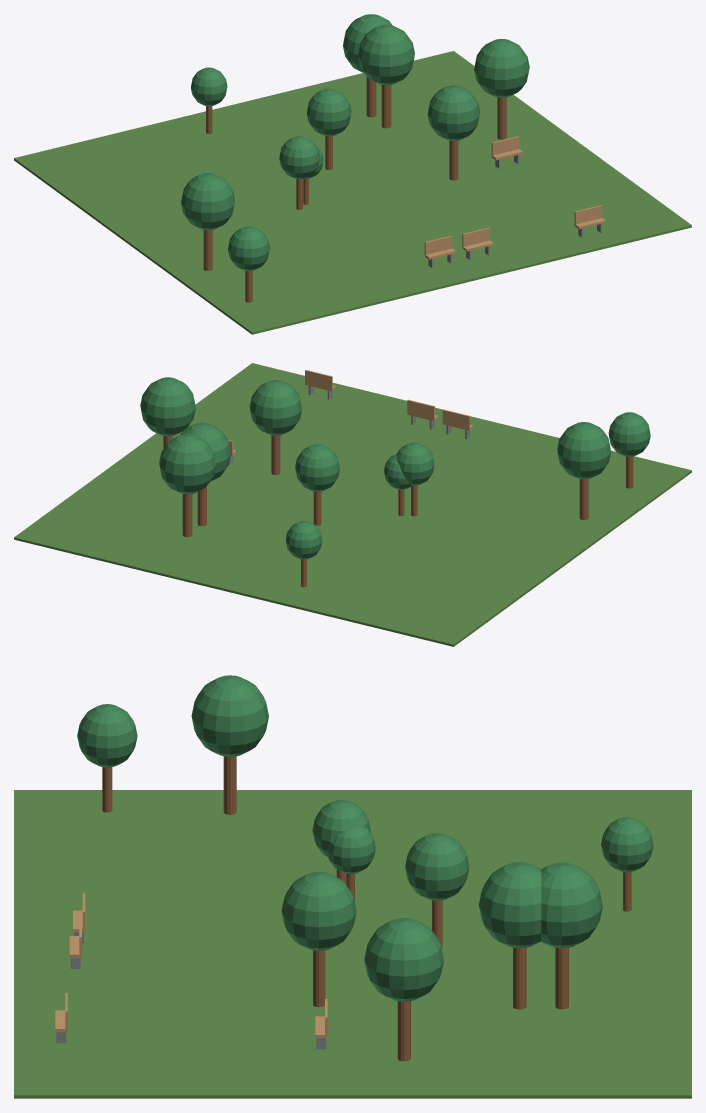
The model's file is Park_004.glb.
3 views of the same model, one above another, from view 1: azimuth 30°, elevation 25°; view 2: azimuth 150°, elevation 25°; view 3: azimuth 270°, elevation 25° (orthographic). The views are drawn at different scales.
Visible parts, largest first — view 1: Park_004; view 2: Park_004; view 3: Park_004.
Boxes of the visible parts, x1,y1,x2,y2 form: Park_004: (14, 14, 691, 334); Park_004: (14, 363, 691, 646); Park_004: (14, 675, 691, 1098).
Bounding box in the file's own units: 32.78 × 7.22 × 30.77.
